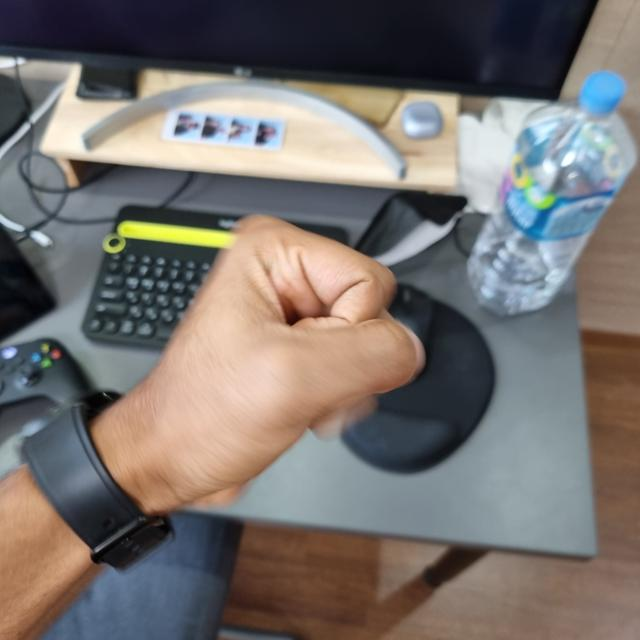Rock: (102, 216, 420, 508)
